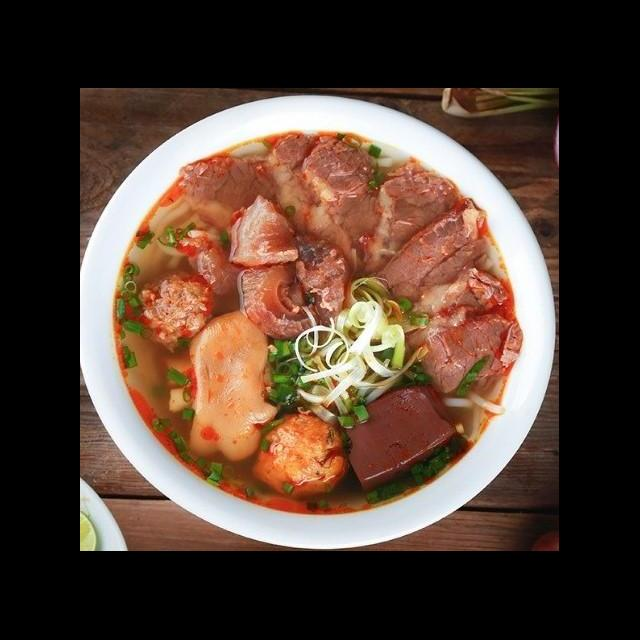bun: (148, 198, 225, 274), (438, 382, 510, 448)
bun bo: (109, 125, 513, 514)
thit bo: (398, 264, 526, 399), (368, 192, 492, 321), (362, 152, 466, 288), (302, 126, 389, 284), (234, 127, 328, 240), (170, 150, 284, 240)
